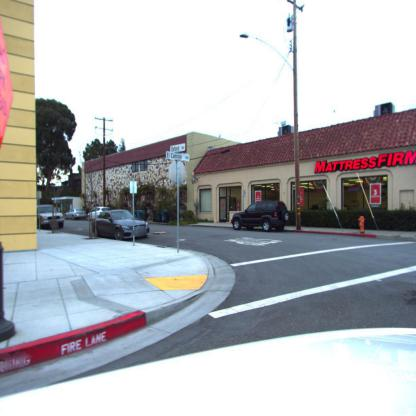car: (229, 200, 289, 232), (96, 210, 150, 241), (38, 205, 65, 232), (89, 207, 113, 223), (66, 208, 89, 221)
fire hydrant: (358, 215, 366, 233)
